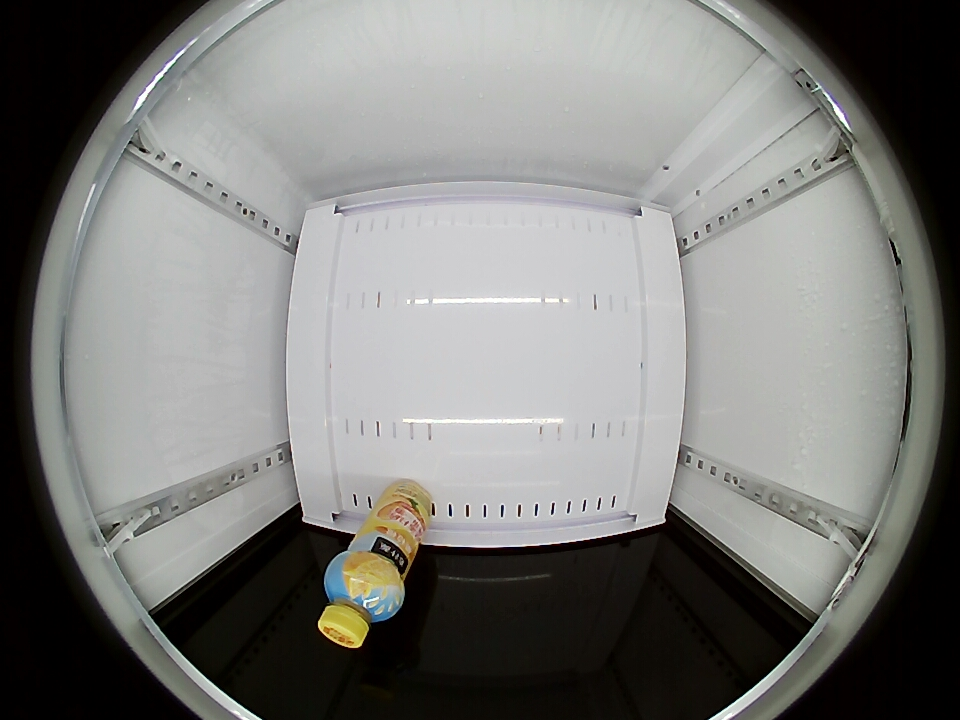guolicheng: (319, 552, 405, 649)
